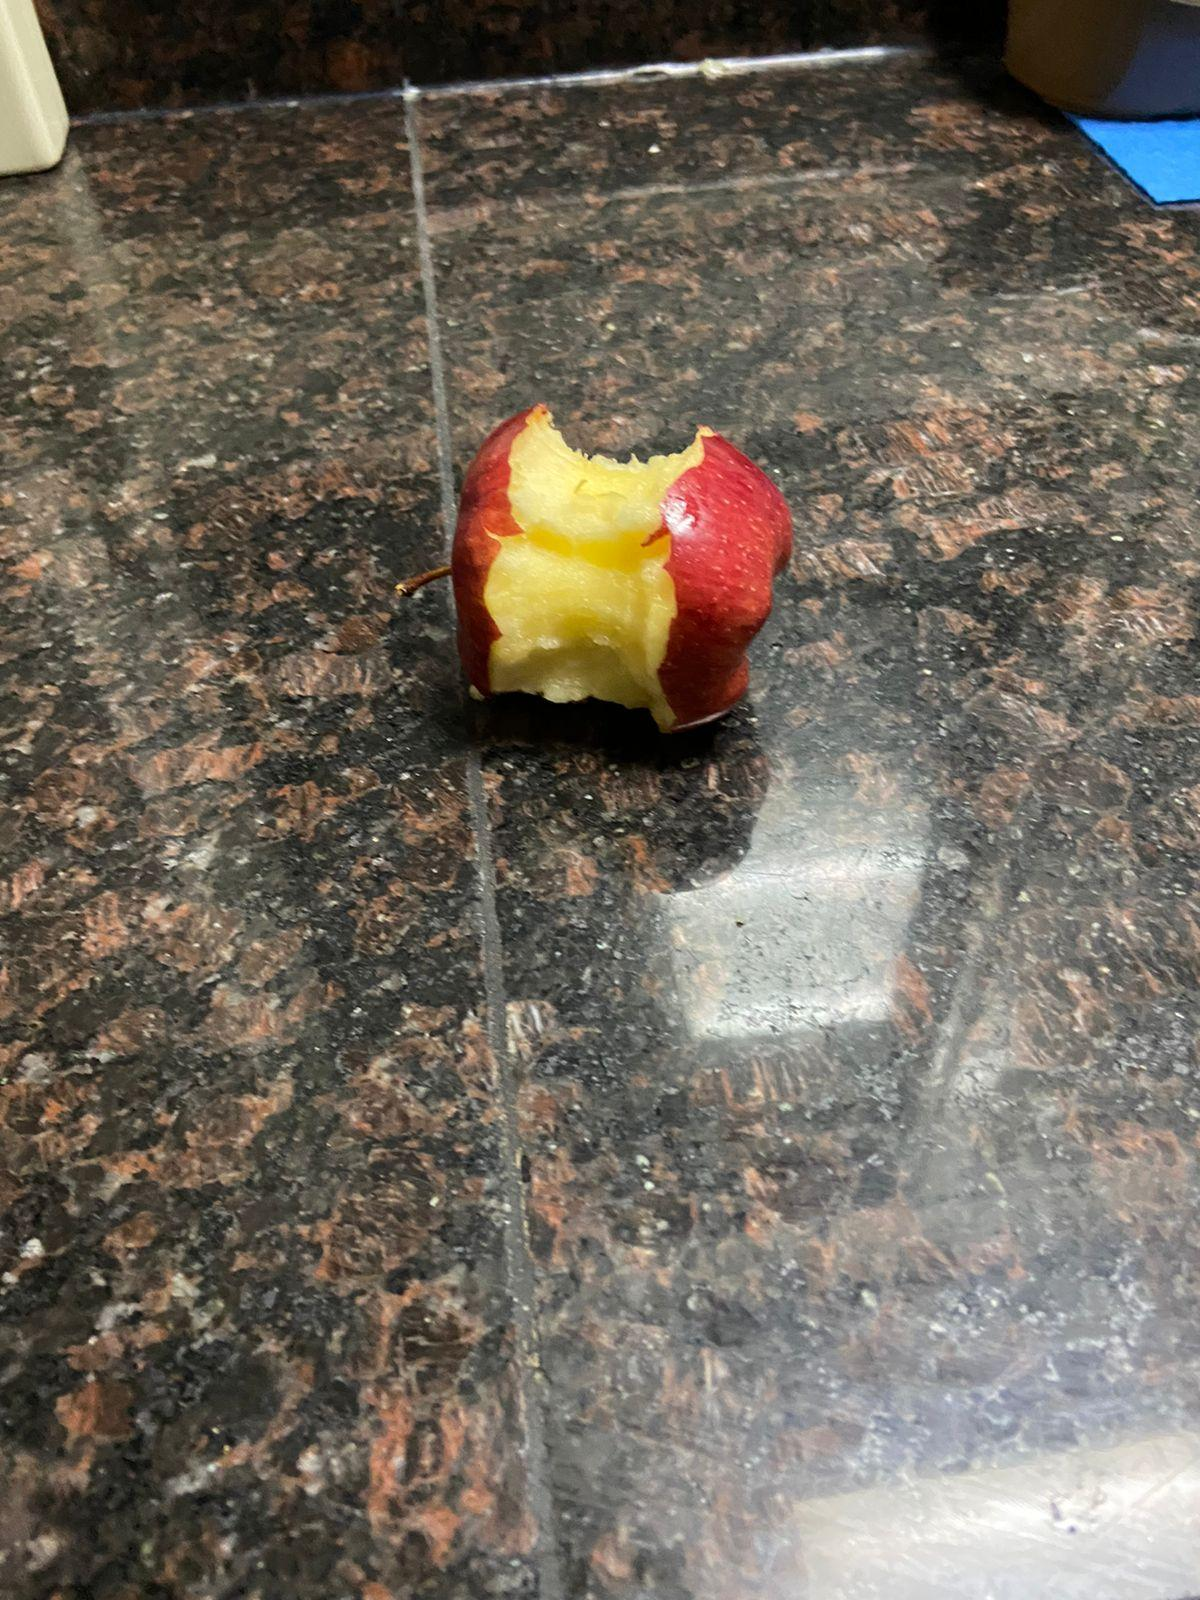Apple: (397, 407, 818, 729)
